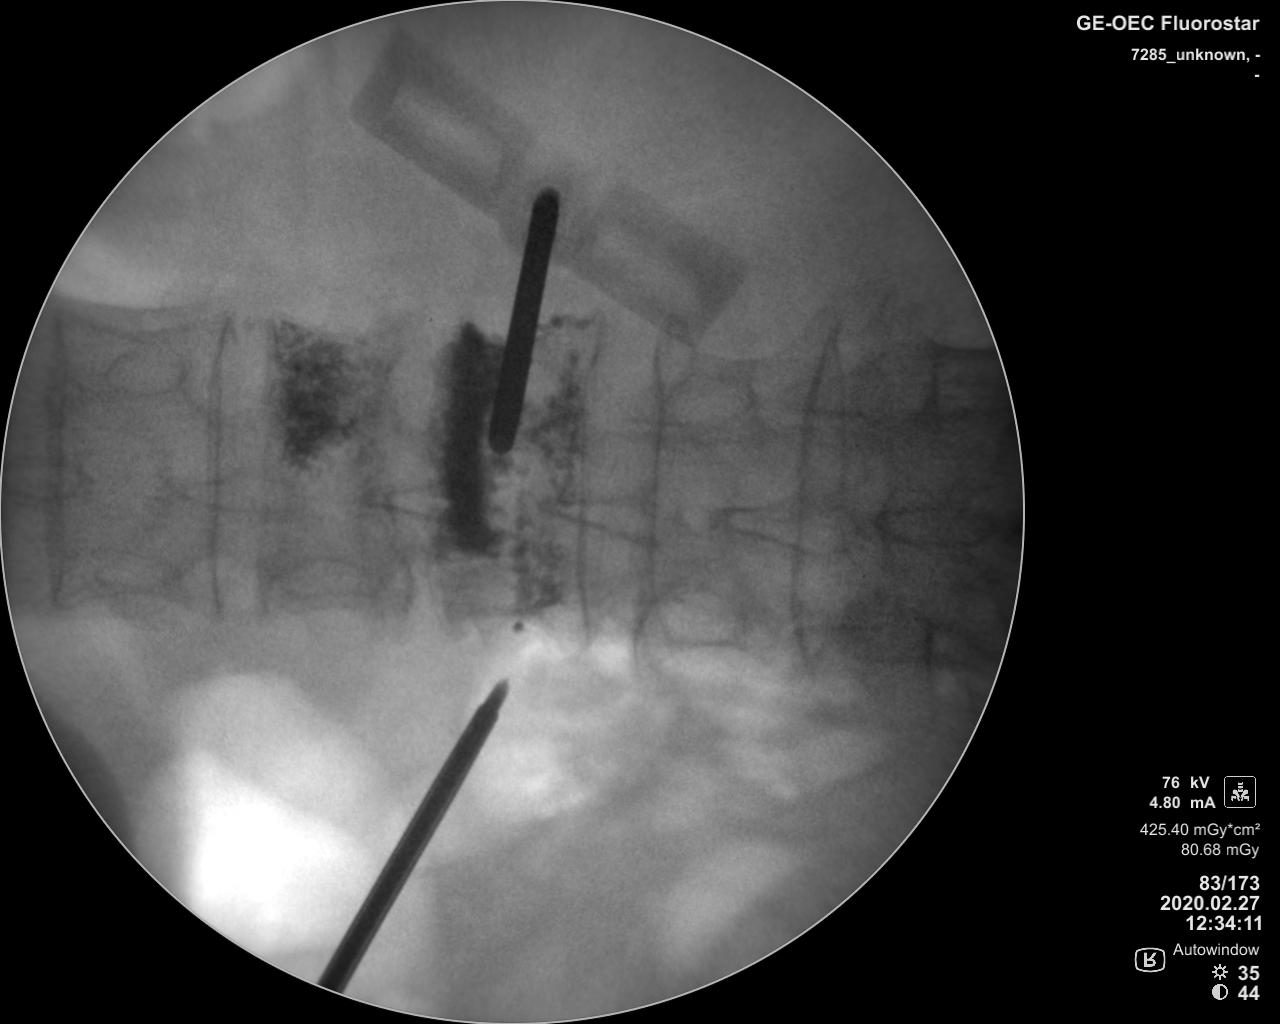eyes: (657, 582, 745, 647), (453, 566, 563, 613), (669, 371, 757, 429), (100, 344, 191, 400), (278, 556, 383, 601), (91, 551, 181, 592)
line: (789, 324, 828, 671), (632, 324, 665, 653), (572, 304, 598, 660), (205, 311, 232, 636), (43, 302, 64, 622)
nose: (709, 494, 857, 550), (537, 492, 678, 546), (167, 469, 301, 520), (356, 478, 492, 526), (872, 502, 996, 550), (8, 455, 99, 504)
